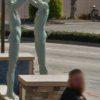Statue: (5, 3, 52, 71)
